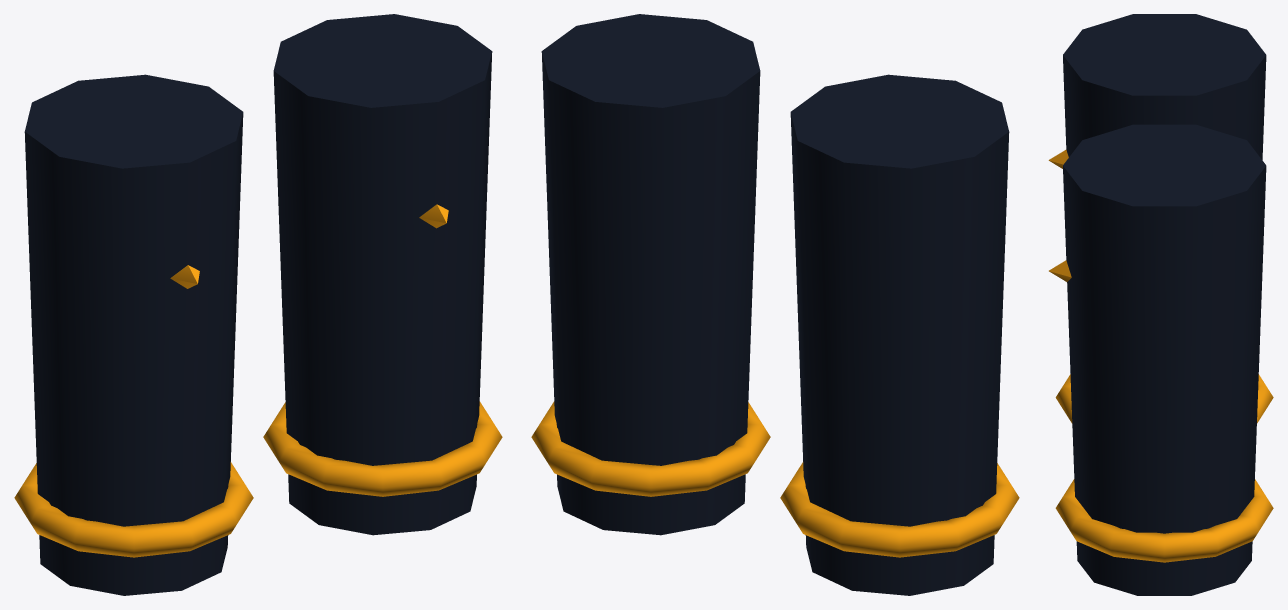
The model's file is dl_legs_base.glb.
3 views of the same model, side by side, from view 1: azimuth 30°, elevation 25°; view 2: azimuth 150°, elevation 25°; view 3: azimuth 270°, elevation 25° (orthographic). The views are drawn at different scales.
Parts seen in each view (by area): view 1: greave_-1, greave_1, greave_ring_1, greave_ring_-1; view 2: greave_-1, greave_1, greave_ring_1, greave_ring_-1; view 3: greave_1, greave_-1, greave_ring_1, greave_ring_-1.
Part boxes in pixels (x1=…): greave_-1: x1=24, y1=74, x2=243, y2=595; greave_1: x1=273, y1=14, x2=492, y2=535; greave_ring_1: x1=263, y1=401, x2=502, y2=496; greave_ring_-1: x1=14, y1=462, x2=253, y2=557; greave_-1: x1=790, y1=74, x2=1009, y2=595; greave_1: x1=541, y1=14, x2=760, y2=535; greave_ring_1: x1=531, y1=401, x2=770, y2=496; greave_ring_-1: x1=780, y1=462, x2=1019, y2=557; greave_1: x1=1063, y1=124, x2=1266, y2=595; greave_-1: x1=1063, y1=14, x2=1266, y2=159; greave_ring_1: x1=1055, y1=479, x2=1273, y2=562; greave_ring_-1: x1=1055, y1=374, x2=1273, y2=423.
Size of the model in its own units: 0.66 by 0.6 by 0.31.
